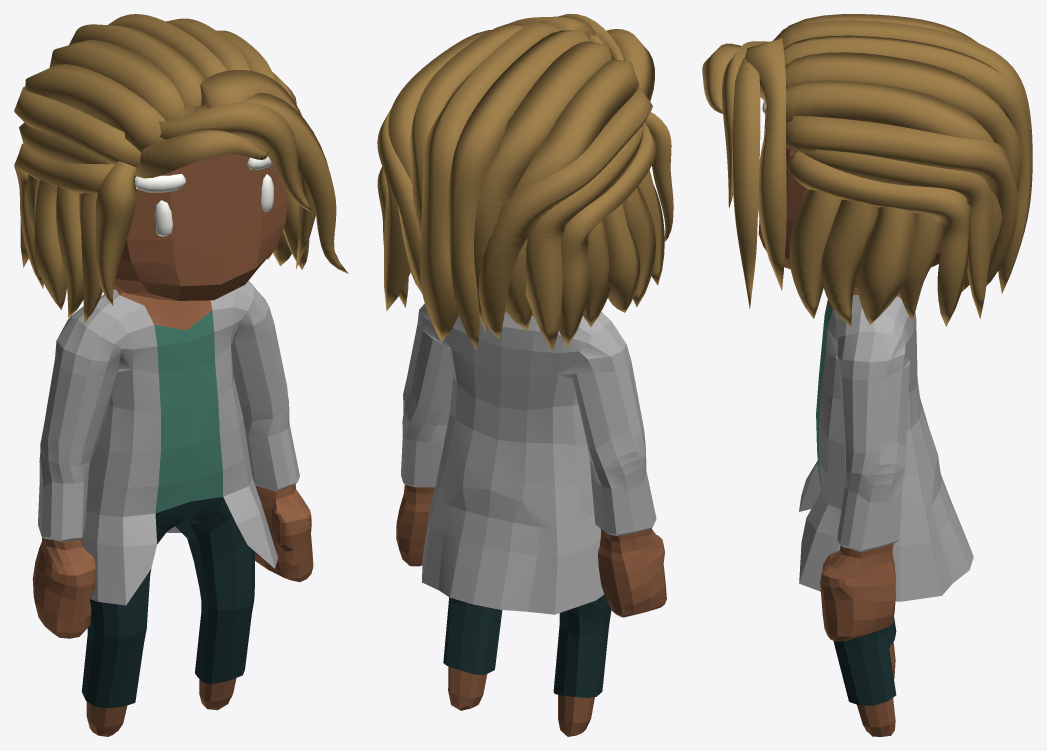
Rendered from debout-doctor-female-young.glb.
3 renders of one model, left to right at view 1: azimuth 30°, elevation 25°; view 2: azimuth 150°, elevation 25°; view 3: azimuth 270°, elevation 25°, orthographic. The views are drawn at different scales.
Parts seen in each view (by area): view 1: CUNurbsPath010, CUNurbsPath010_3, CUNurbsPath010_2, CUNurbsPath010_5, CUNurbsPath010_4, CUNurbsPath010_1; view 2: CUNurbsPath010, CUNurbsPath010_3, CUNurbsPath010_2, CUNurbsPath010_5; view 3: CUNurbsPath010, CUNurbsPath010_3, CUNurbsPath010_2, CUNurbsPath010_5, CUNurbsPath010_4.
Part boxes in pixels (<box>): CUNurbsPath010: <box>14,14,348,323</box>; CUNurbsPath010_3: <box>38,281,299,605</box>; CUNurbsPath010_2: <box>32,143,313,736</box>; CUNurbsPath010_5: <box>81,497,254,708</box>; CUNurbsPath010_4: <box>154,311,223,512</box>; CUNurbsPath010_1: <box>134,156,273,236</box>; CUNurbsPath010: <box>377,14,673,351</box>; CUNurbsPath010_3: <box>401,303,656,614</box>; CUNurbsPath010_2: <box>396,81,666,736</box>; CUNurbsPath010_5: <box>443,594,611,697</box>; CUNurbsPath010: <box>702,14,1032,326</box>; CUNurbsPath010_3: <box>799,295,973,601</box>; CUNurbsPath010_2: <box>758,106,943,736</box>; CUNurbsPath010_5: <box>833,617,896,705</box>; CUNurbsPath010_4: <box>816,301,832,488</box>.
Size of the model in its own units: 0.6723 by 1.65 by 0.7269.
